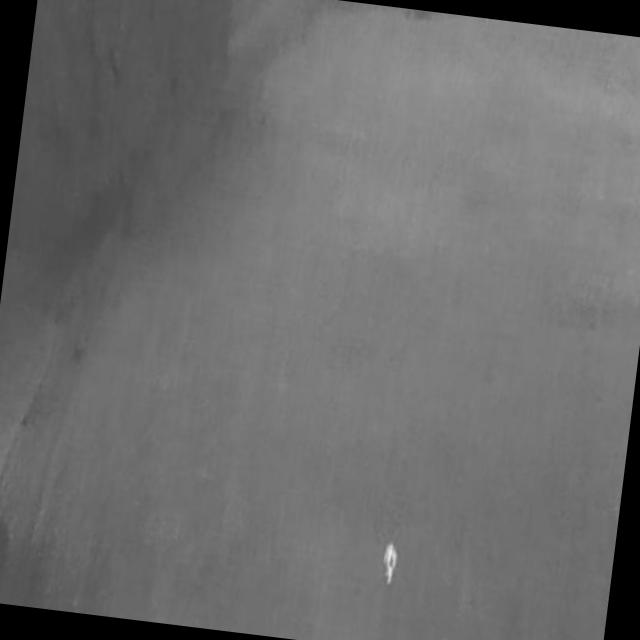person: (380, 542, 399, 587)
